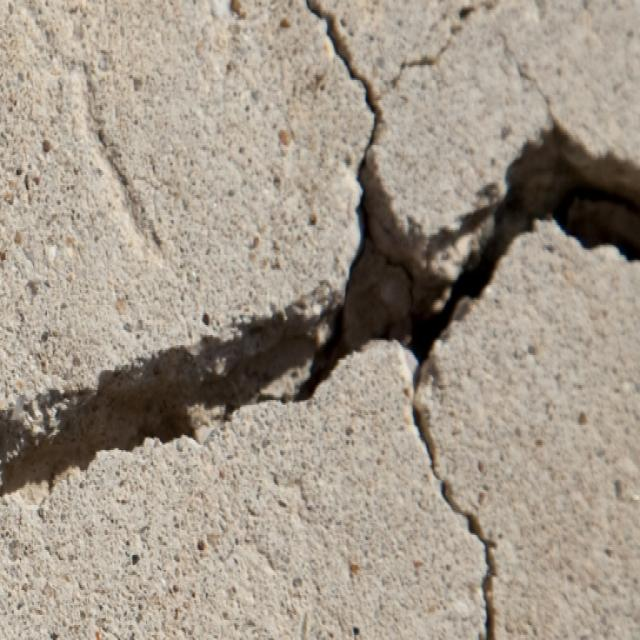crack: (306, 1, 498, 171), (406, 367, 502, 638)
spall: (1, 126, 638, 506)
